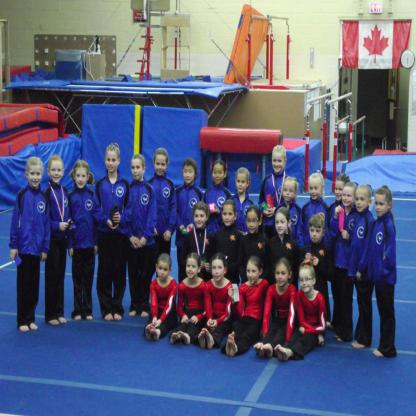face: (300, 273, 314, 292), (50, 164, 63, 184), (356, 193, 369, 213), (30, 168, 43, 187), (376, 198, 389, 217), (276, 267, 289, 286), (156, 157, 168, 177), (248, 214, 260, 234), (76, 170, 88, 189), (107, 154, 119, 173), (132, 161, 144, 180), (273, 154, 285, 173), (311, 225, 323, 244), (223, 207, 235, 226), (213, 263, 225, 282), (248, 265, 260, 284), (214, 167, 226, 185), (310, 182, 322, 200), (277, 216, 289, 234), (343, 189, 355, 207), (184, 167, 196, 184), (195, 211, 207, 228), (158, 264, 170, 281), (284, 184, 295, 202), (187, 261, 198, 279), (237, 176, 247, 193), (336, 183, 345, 201)
